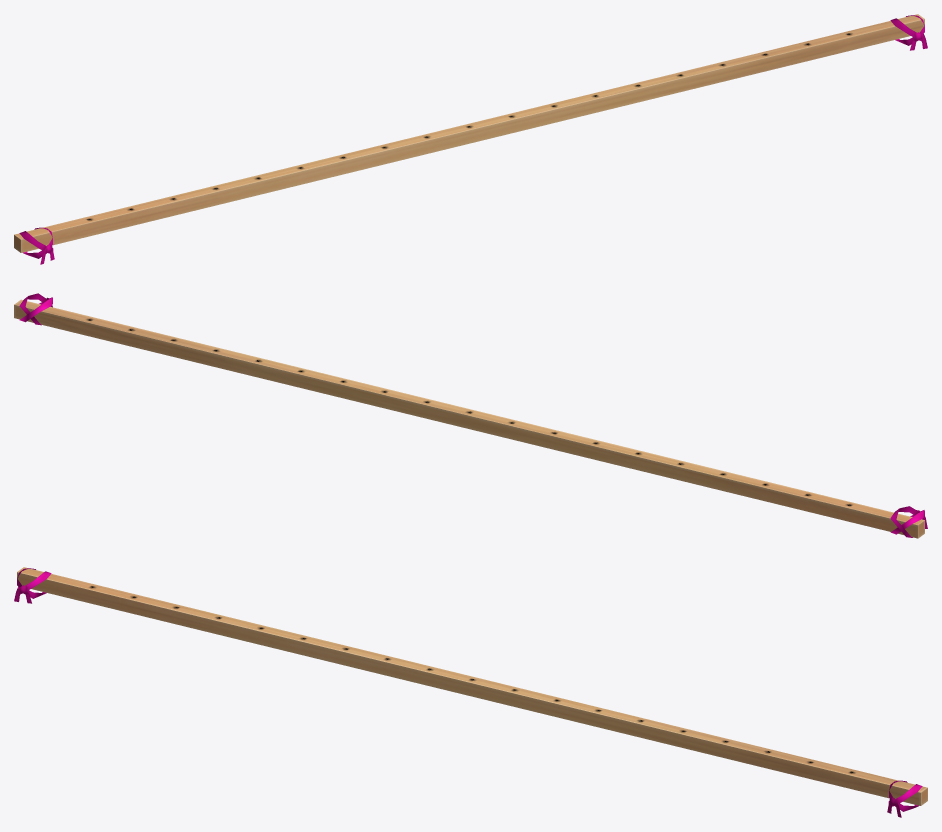
The model's file is jsf_4P_s02_DisplayCabinet_01.fbx.
3 views of the same model, one above another, from view 1: azimuth 30°, elevation 25°; view 2: azimuth 150°, elevation 25°; view 3: azimuth 330°, elevation 25° (orthographic).
Parts seen in each view (by area): view 1: jsf_4P_s02_DisplayCabinet_01; view 2: jsf_4P_s02_DisplayCabinet_01; view 3: jsf_4P_s02_DisplayCabinet_01.
Boxes of the visible parts, x1,y1,x2,y2 form: jsf_4P_s02_DisplayCabinet_01: [14, 14, 927, 264]; jsf_4P_s02_DisplayCabinet_01: [14, 293, 927, 538]; jsf_4P_s02_DisplayCabinet_01: [14, 567, 927, 817].
Size of the model in its own units: 214 by 5.58 by 7.57.
